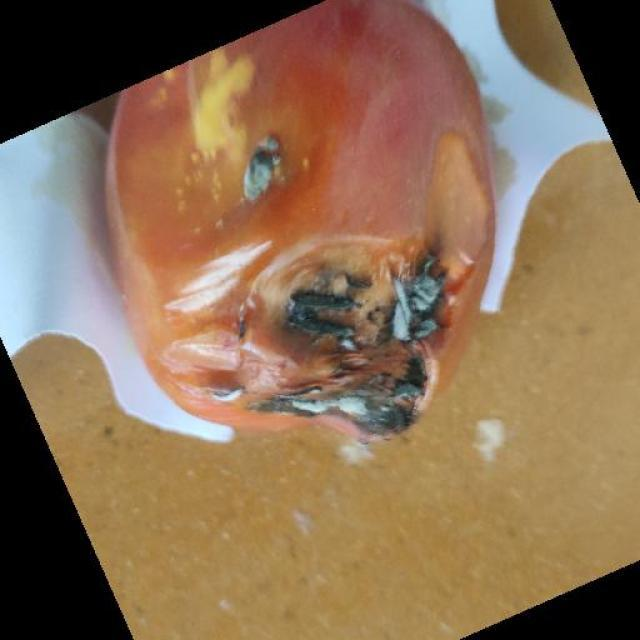Rotten Tomato: (79, 30, 544, 464)
